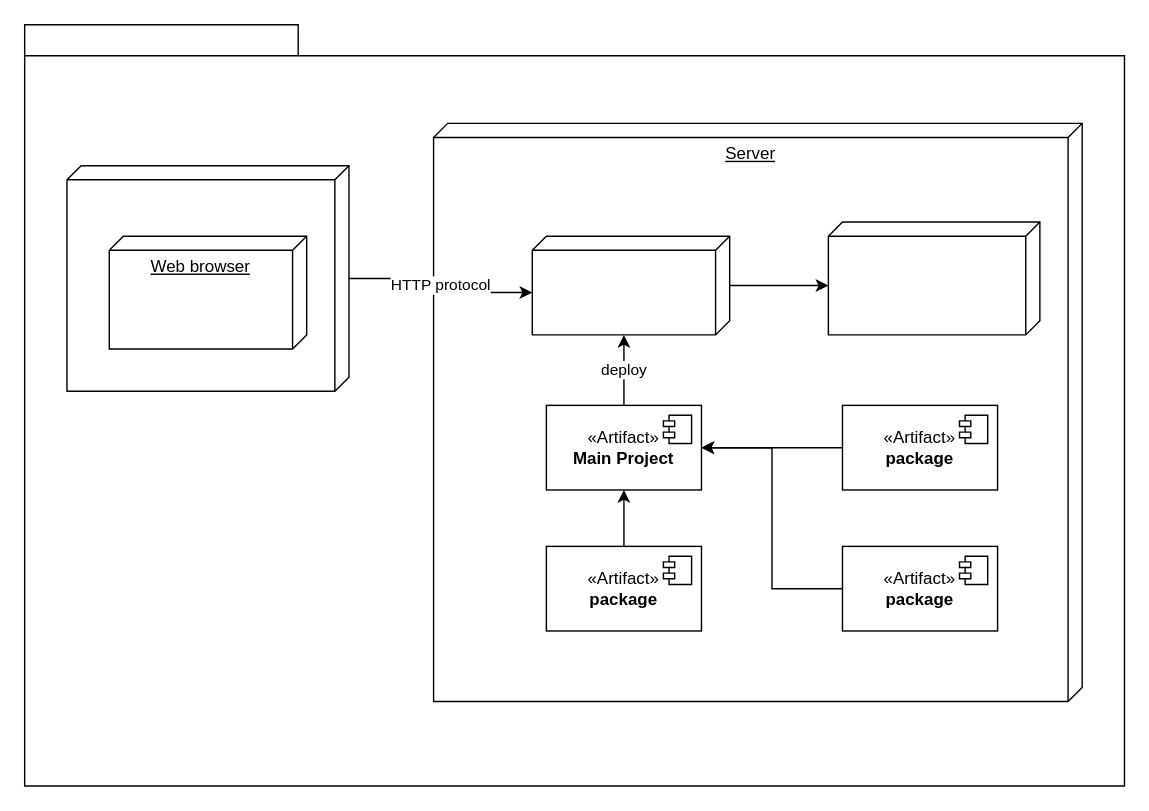
Image size: 1149x811. Some labels were removed from this diagram. Here are the shapes that lost their labels. From the top down, the box of each, then its label:
(66, 164, 349, 391): Client
(531, 235, 730, 335): Node
(827, 221, 1040, 335): BD Repository
